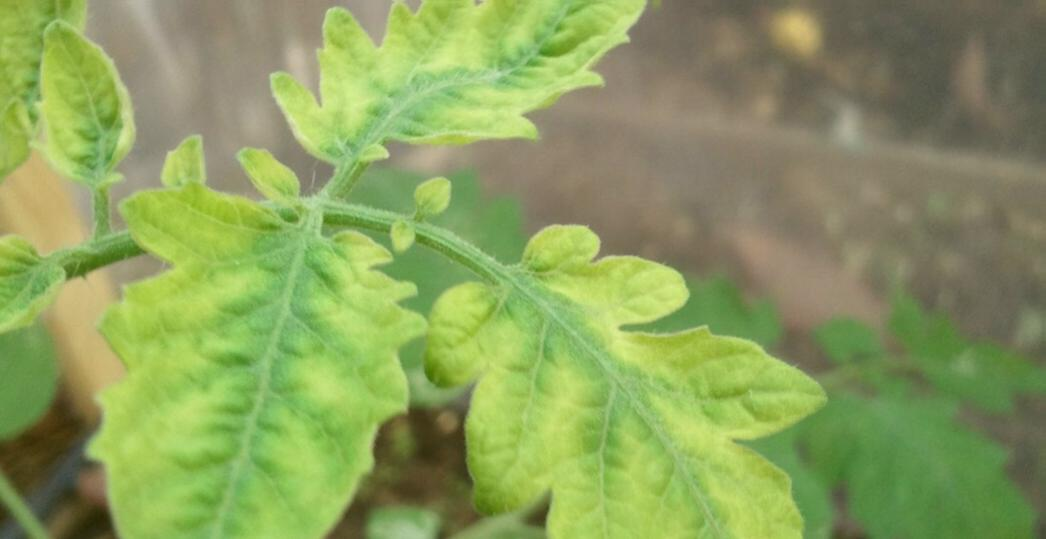Tomato leaf yellow virus: (429, 212, 806, 539), (74, 200, 406, 539), (281, 0, 714, 183), (44, 9, 146, 187), (0, 0, 101, 174)
